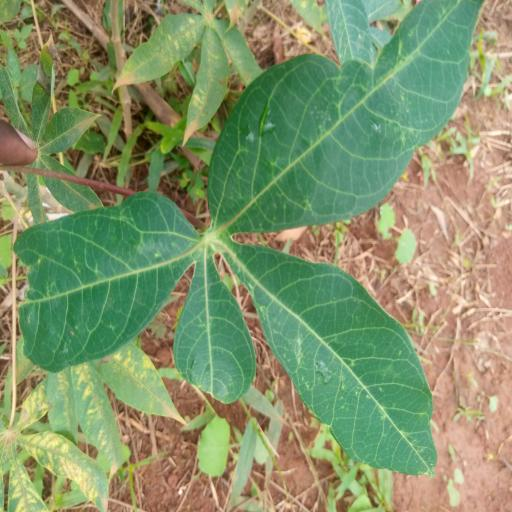Cassava_Healthy: (28, 0, 492, 472)
